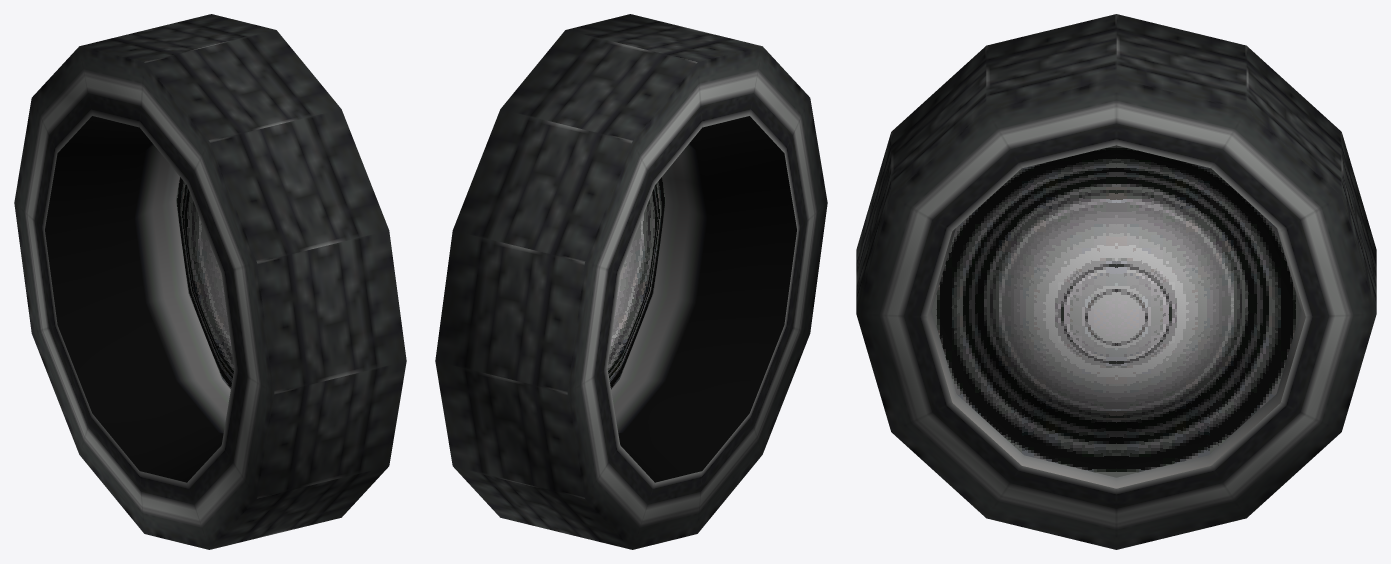
Rendered from DefaultWheel_stafford.glb.
The picture shows the model from 3 angles, left to right: view 1: azimuth 30°, elevation 25°; view 2: azimuth 150°, elevation 25°; view 3: azimuth 270°, elevation 25°; orthographic projection.
Visible parts, largest first — view 1: wheel; view 2: wheel; view 3: wheel.
Part boxes in pixels (box(x1,y1,x2,y2)): wheel: box(14, 14, 406, 549); wheel: box(435, 14, 827, 549); wheel: box(856, 14, 1376, 549).
Size of the model in its own units: 0.2647 by 0.7829 by 0.7829.
3 materials, 3 textured.
